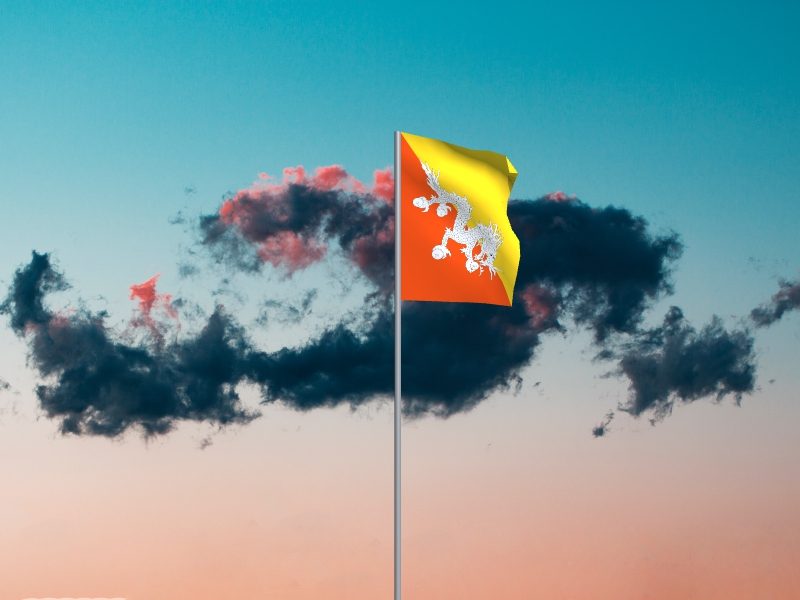bt: (402, 133, 522, 309)
